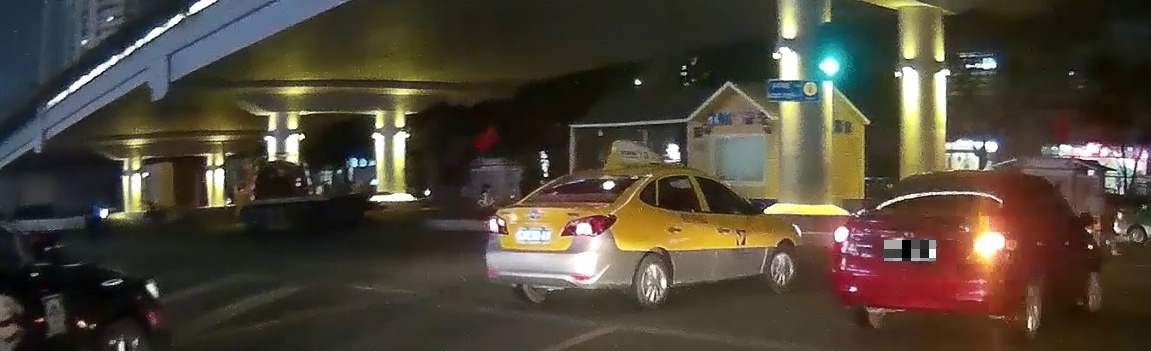L_light: (832, 226, 860, 257), (487, 214, 509, 235)
R_light: (560, 214, 617, 237), (973, 231, 1006, 258)
T_light: (941, 178, 968, 182), (552, 199, 571, 202)
night-no: (486, 167, 649, 310)
night-right: (830, 169, 1021, 342)
plate_1: (884, 240, 936, 261)
